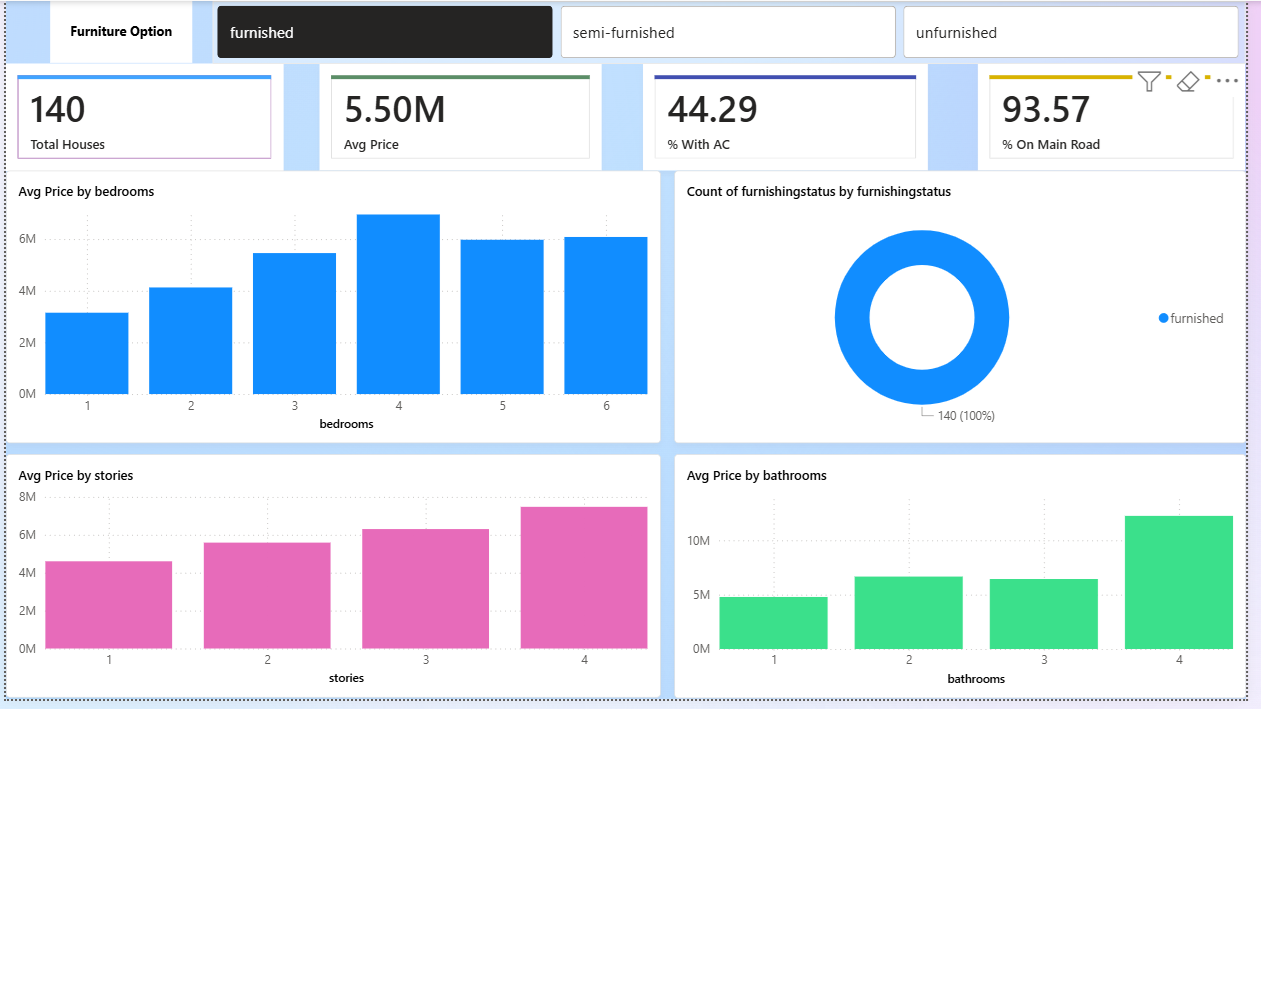

The dashboard page shown, as its layout file describes it:
{"tool":"powerbi","page":{"name":"Page 1","canvas":[1280,720],"ordinal":0},"visuals":[{"type":"cardVisual","fields":{"Data":["Housing.Total Houses"]},"box":[0,64.9,286.3,110.7],"z":0},{"type":"cardVisual","fields":{"Data":["Housing.Avg Price"]},"box":[324.3,64.9,291.1,110.7],"z":1000},{"type":"cardVisual","fields":{"Data":["Housing.% With AC"]},"box":[658,64.9,294.2,110.7],"z":2000},{"type":"cardVisual","fields":{"Data":["Housing.% On Main Road"]},"box":[1002.9,64.9,276.8,110.7],"z":3000},{"type":"advancedSlicerVisual","fields":{"Values":["Housing.furnishingstatus"]},"box":[213.3,0,1066.4,64.7],"z":4000},{"type":"textbox","box":[45.9,0,146.7,64.2],"z":5000},{"type":"clusteredColumnChart","fields":{"Y":["Housing.Avg Price"],"Category":["Housing.bedrooms"]},"box":[0,175.6,675.4,281.6],"z":6000},{"type":"donutChart","fields":{"Category":["Housing.furnishingstatus"],"Y":["CountNonNull(Housing.furnishingstatus)"]},"box":[689.7,175.6,590,281.6],"z":7000},{"type":"clusteredColumnChart","fields":{"Category":["Housing.stories"],"Y":["Housing.Avg Price"]},"box":[0,468.2,675.4,251.5],"z":8000},{"type":"clusteredColumnChart","fields":{"Category":["Housing.bathrooms"],"Y":["Housing.Avg Price"]},"box":[690,468,590,252],"z":9000}]}

Visuals, with their boxes in screenshot pixels (x1, y1, x2, y2):
cardVisual - Housing.Total Houses: left=0, top=76, right=278, bottom=184
cardVisual - Housing.Avg Price: left=315, top=76, right=598, bottom=184
cardVisual - Housing.% With AC: left=639, top=76, right=925, bottom=184
cardVisual - Housing.% On Main Road: left=974, top=76, right=1243, bottom=184
advancedSlicerVisual - Housing.furnishingstatus: left=207, top=13, right=1243, bottom=76
textbox: left=45, top=13, right=187, bottom=76
clusteredColumnChart - Housing.Avg Price x Housing.bedrooms: left=0, top=184, right=656, bottom=457
donutChart - Housing.furnishingstatus x CountNonNull(Housing.furnishingstatus): left=670, top=184, right=1243, bottom=457
clusteredColumnChart - Housing.stories x Housing.Avg Price: left=0, top=468, right=656, bottom=712
clusteredColumnChart - Housing.bathrooms x Housing.Avg Price: left=670, top=468, right=1244, bottom=713
